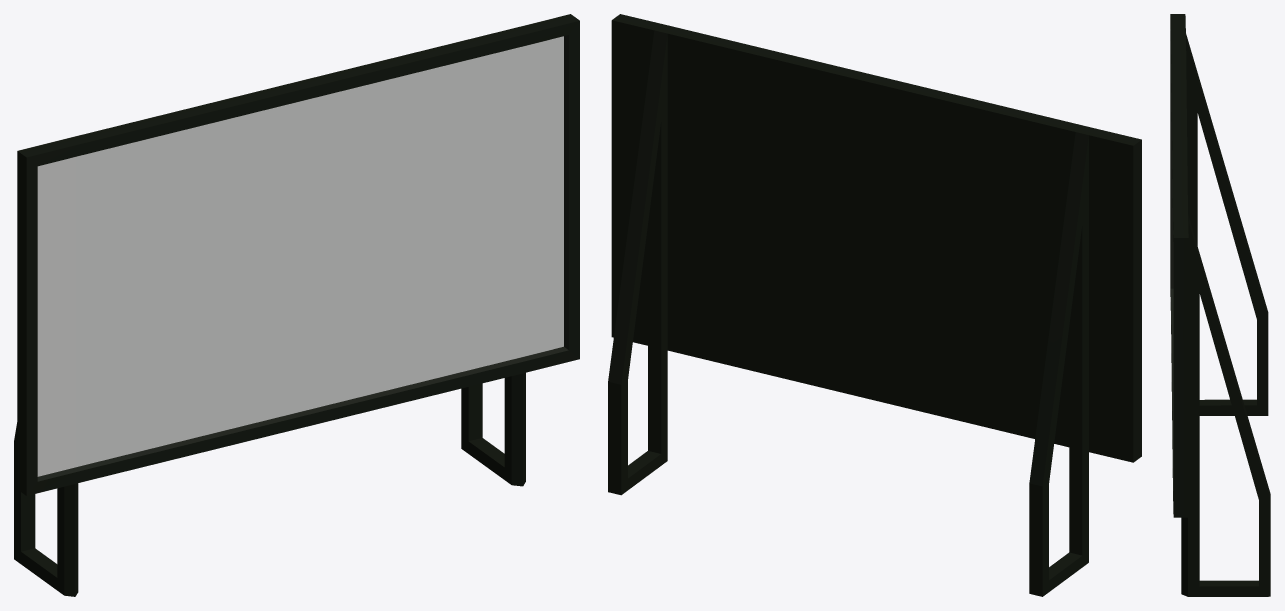
Rendered from Screen_Independent.glb.
The picture shows the model from 3 angles, left to right: view 1: azimuth 30°, elevation 25°; view 2: azimuth 150°, elevation 25°; view 3: azimuth 270°, elevation 25°; orthographic projection. The views are drawn at different scales.
Visible parts, largest first — view 1: Screen_SmartItem; view 2: Screen_SmartItem; view 3: Screen_SmartItem.
Part boxes in pixels (bbox=[...]): Screen_SmartItem: bbox=[14, 14, 579, 596]; Screen_SmartItem: bbox=[608, 14, 1141, 596]; Screen_SmartItem: bbox=[1170, 14, 1270, 596].
Size of what is drawn, in the model's own units: 6.92 by 5.44 by 1.31.
Materials: 1 (1 with a texture image).
